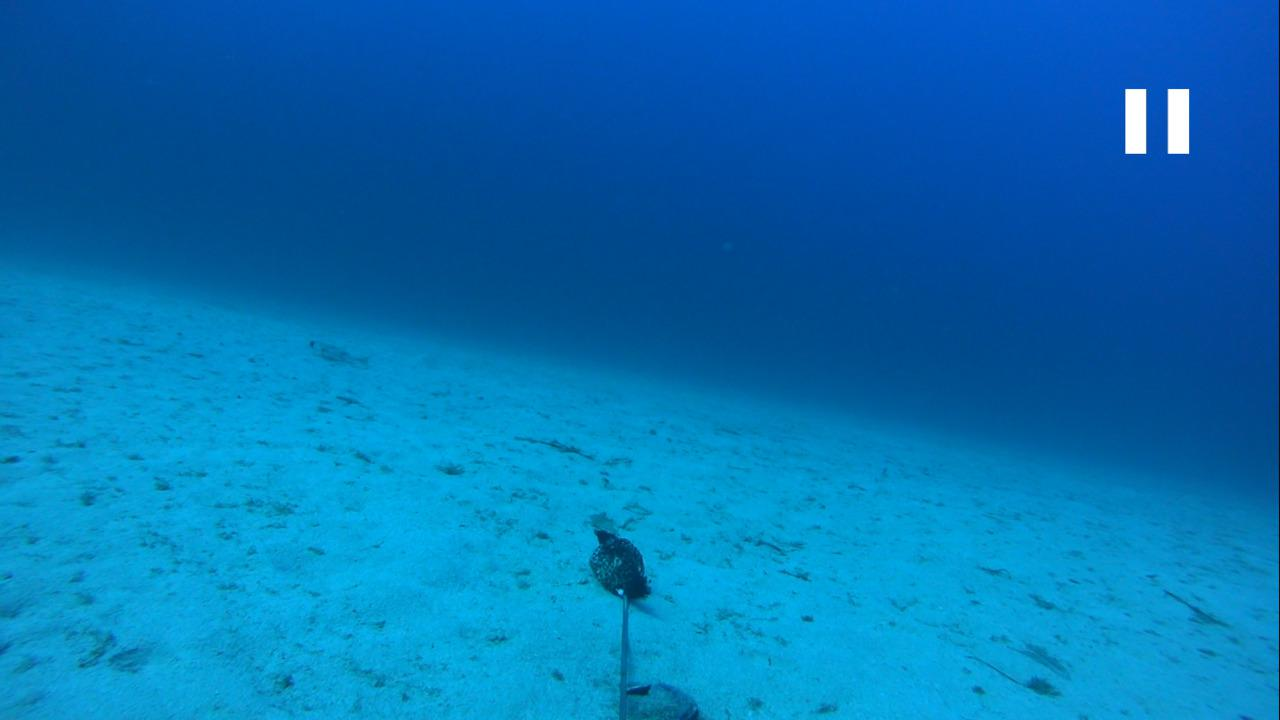dactylopterus: (291, 331, 374, 372)
